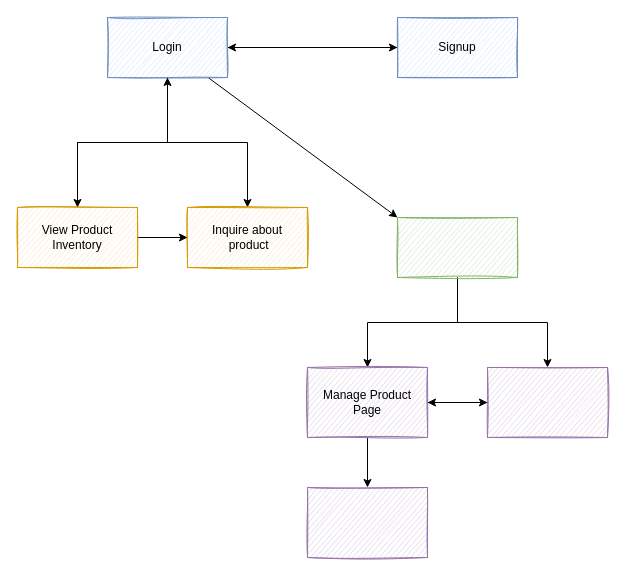
The diagram is 625 pixels wide and 575 high, and some of its shapes have lost their labels. The shapes that lost their labels are listed below. From the top down, each one's box as (x1, y1, x2, y2) in pixels, then its label:
(396, 216, 518, 278): DashBoard
(486, 366, 608, 438): View Inquiries Page
(306, 486, 428, 558): Stock Composition Pie Chart
